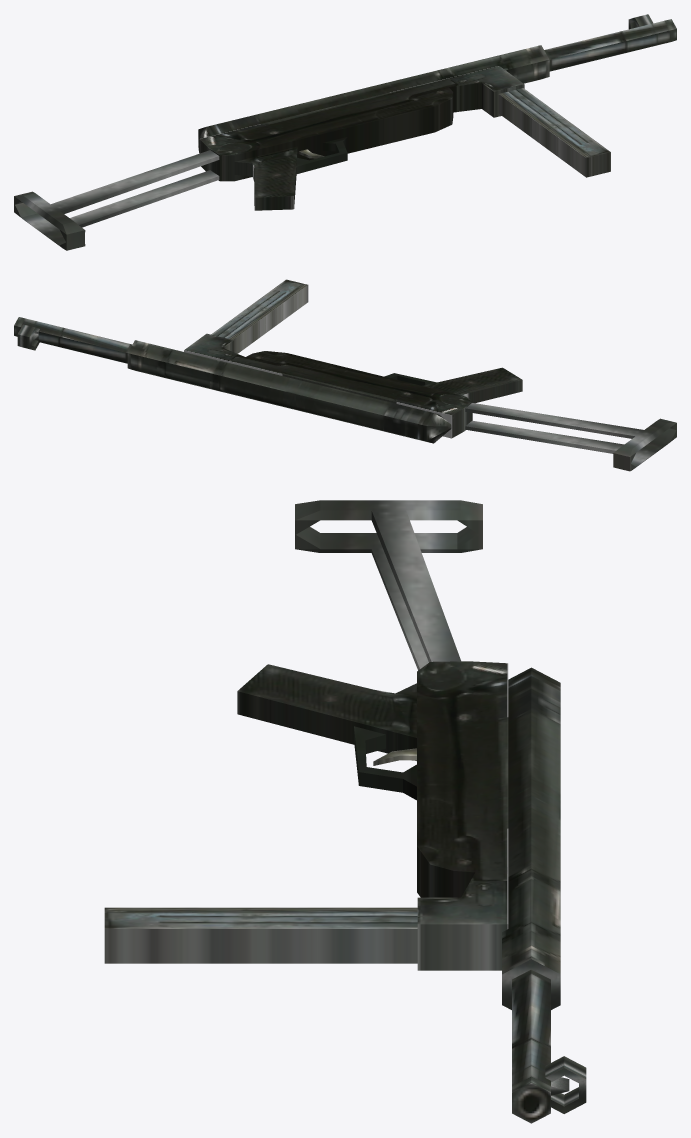
3 views of the same model, one above another, from view 1: azimuth 30°, elevation 25°; view 2: azimuth 150°, elevation 25°; view 3: azimuth 270°, elevation 25° (orthographic). The views are drawn at different scales.
Parts seen in each view (by area): view 1: mp40_Material #26_0, barrel, stock_Material #31_0, Ammo_Material #27_0; view 2: barrel, mp40_Material #26_0, stock_Material #31_0, Ammo_Material #27_0, sight_Material #30_0; view 3: mp40_Material #26_0, barrel, Ammo_Material #27_0, stock_Material #31_0, sight_Material #30_0.
Part boxes in pixels (left/top/right/bottom): mp40_Material #26_0: left=199, top=66, right=524, bottom=210; barrel: left=198, top=19, right=676, bottom=152; stock_Material #31_0: left=14, top=150, right=219, bottom=250; Ammo_Material #27_0: left=498, top=88, right=610, bottom=177; barrel: left=14, top=317, right=451, bottom=443; mp40_Material #26_0: left=184, top=333, right=522, bottom=438; stock_Material #31_0: left=465, top=403, right=676, bottom=471; Ammo_Material #27_0: left=211, top=279, right=308, bottom=353; sight_Material #30_0: left=17, top=324, right=39, bottom=350; mp40_Material #26_0: left=237, top=661, right=508, bottom=970; barrel: left=502, top=667, right=569, bottom=1123; Ammo_Material #27_0: left=104, top=907, right=417, bottom=963; stock_Material #31_0: left=295, top=500, right=482, bottom=670; sight_Material #30_0: left=545, top=1056, right=586, bottom=1113.
Bounding box in the file's own units: 54.13 × 2.65 × 18.85.
Materials: 6 (6 with a texture image).
